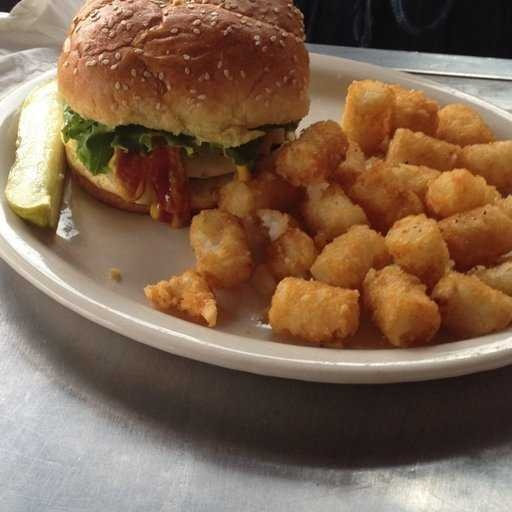hamburger: (57, 8, 321, 207)
